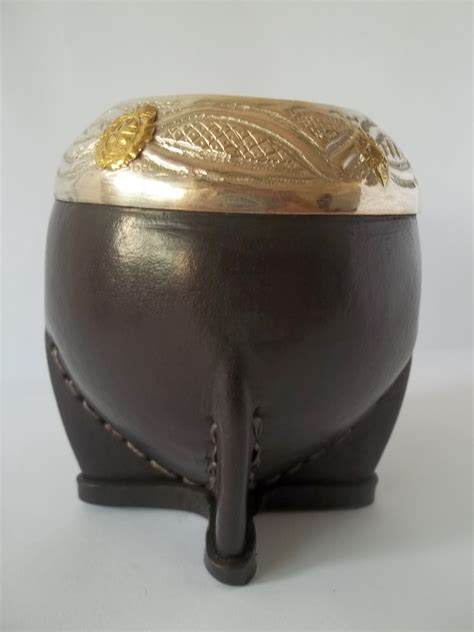cuero: (40, 194, 428, 587)
